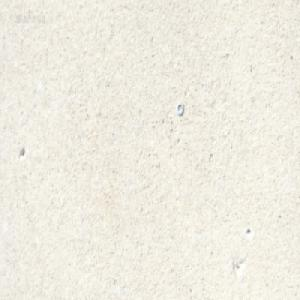Washer: (176, 101, 183, 116)
